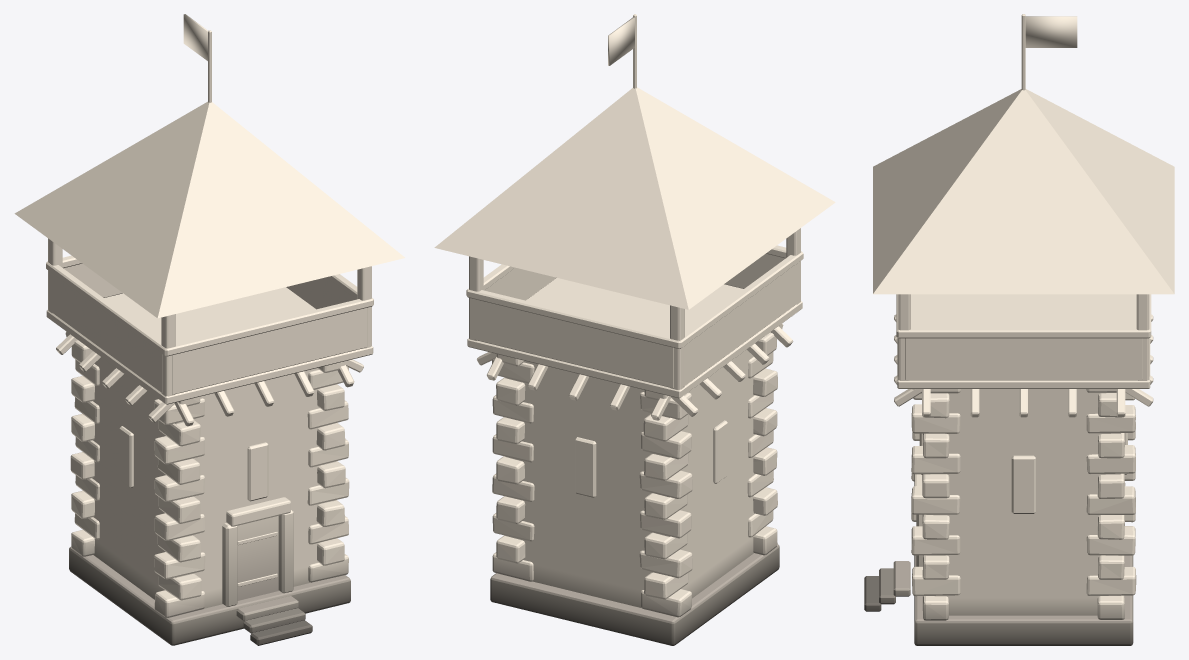
The model's file is SM_VK_GuardTower.fbx.
3 renders of one model, left to right at view 1: azimuth 30°, elevation 25°; view 2: azimuth 150°, elevation 25°; view 3: azimuth 270°, elevation 25°, orthographic. The views are drawn at different scales.
Visible parts, largest first — view 1: SM_VK_GuardTower.001; view 2: SM_VK_GuardTower.001; view 3: SM_VK_GuardTower.001.
Boxes of the visible parts, x1,y1,x2,y2 form: SM_VK_GuardTower.001: (14,14,404,645); SM_VK_GuardTower.001: (434,14,835,645); SM_VK_GuardTower.001: (864,14,1174,645).
Size of the model in its own units: 6.2 by 13.3 by 6.38.
